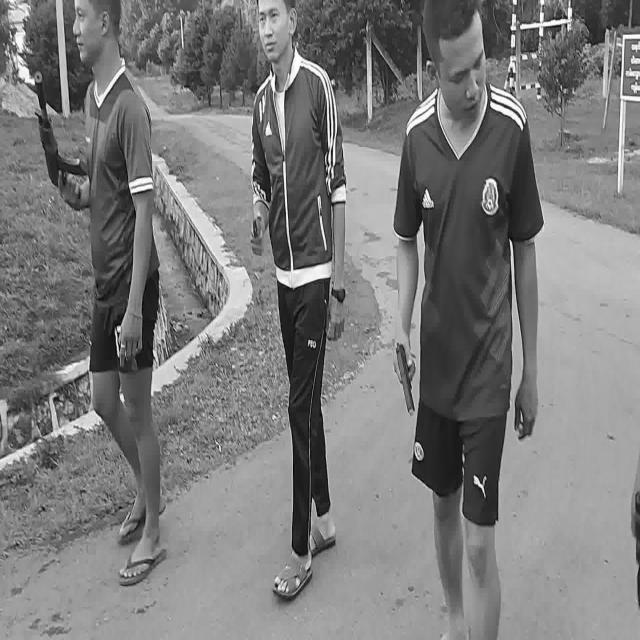gun: (32, 75, 86, 200), (396, 344, 416, 414)
